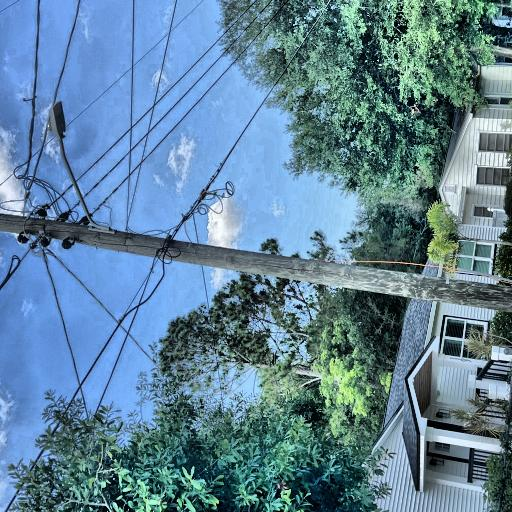pole: (48, 0, 191, 512)
street light: (146, 165, 270, 245)
